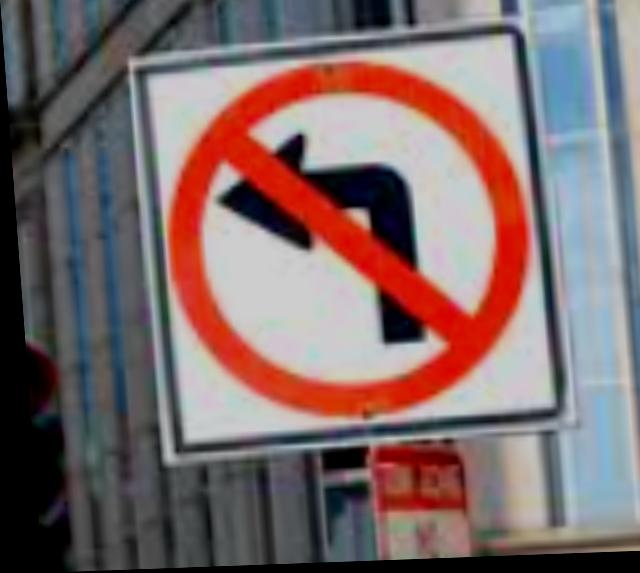not_turn_left: (147, 65, 550, 419)
